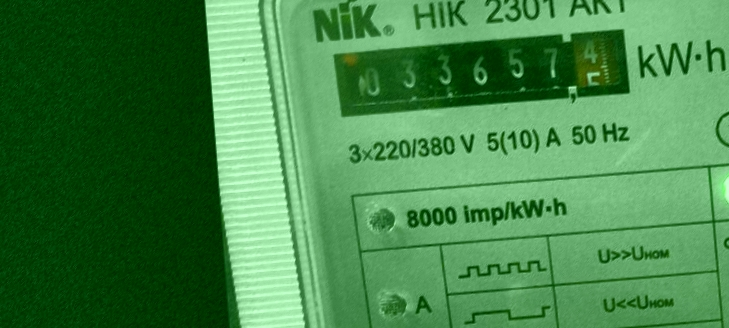0: (361, 61, 384, 100)
3: (398, 54, 420, 91), (434, 51, 455, 87)
4: (580, 34, 601, 66)
5: (504, 43, 528, 81)
6: (468, 51, 491, 87)
7: (541, 43, 561, 80)
screen: (321, 20, 639, 125)
